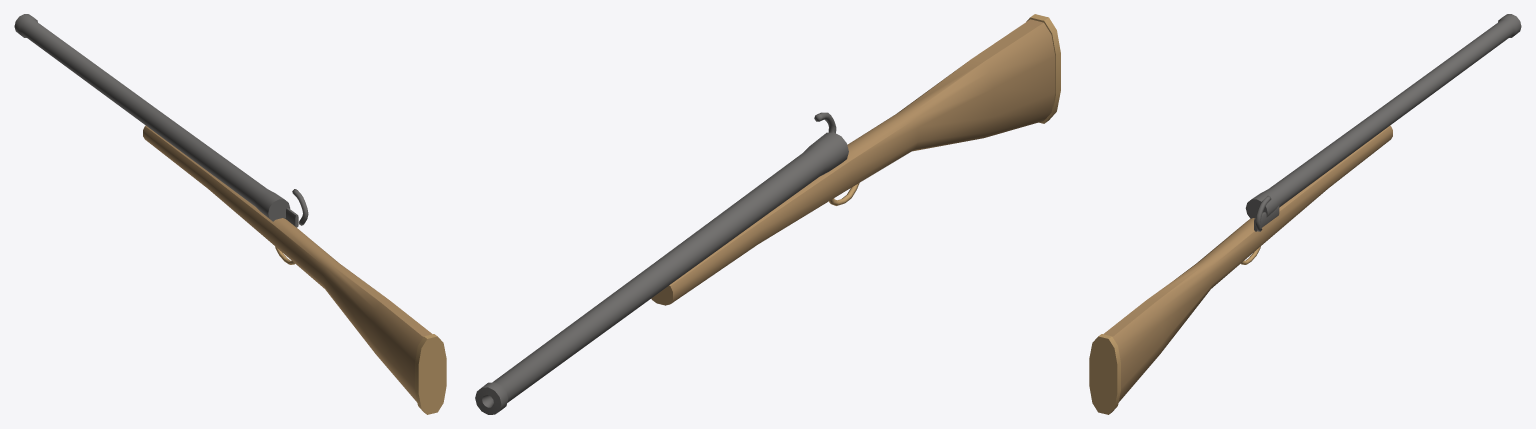
The model's file is shotgun.glb.
3 renders of one model, left to right at view 1: azimuth 30°, elevation 25°; view 2: azimuth 150°, elevation 25°; view 3: azimuth 330°, elevation 25°, orthographic. The views are drawn at different scales.
Parts seen in each view (by area): view 1: shotgun; view 2: shotgun; view 3: shotgun.
Part boxes in pixels (bbox=[...]): shotgun: bbox=[14, 14, 446, 414]; shotgun: bbox=[475, 14, 1060, 414]; shotgun: bbox=[1089, 14, 1521, 414].
Bounding box in the file's own units: 0.1098 × 0.3821 × 2.56.
